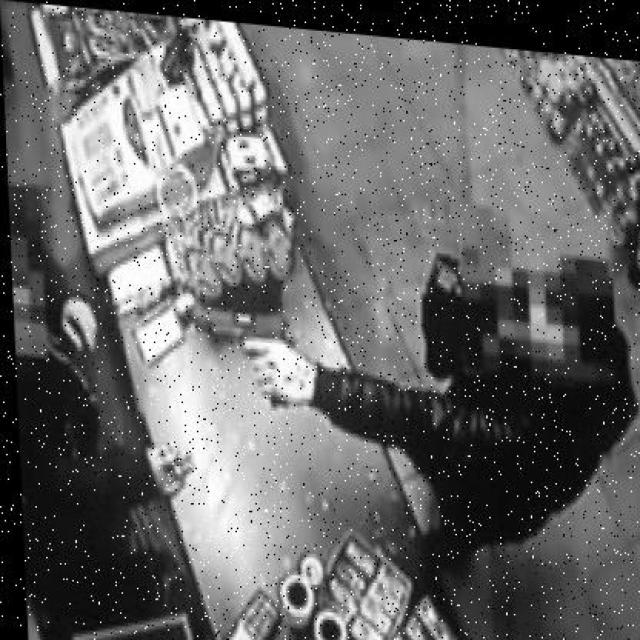weapon: (188, 300, 300, 412)
